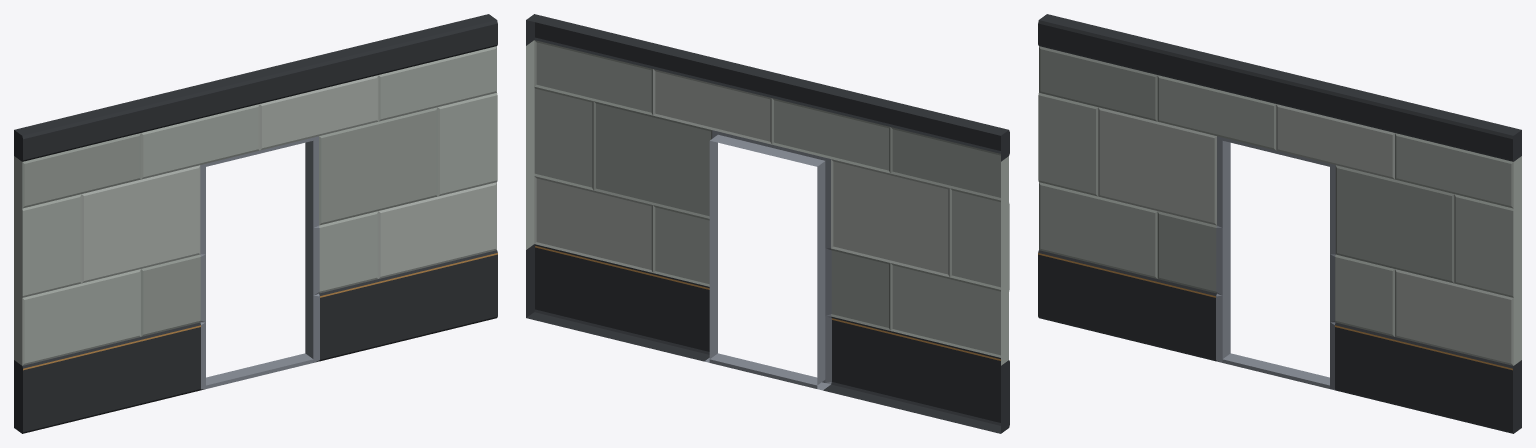
Rendered from Wall_Interior_Door_01.glb.
The picture shows the model from 3 angles, left to right: view 1: azimuth 30°, elevation 25°; view 2: azimuth 150°, elevation 25°; view 3: azimuth 330°, elevation 25°; orthographic projection.
Visible parts, largest first — view 1: SM_Env_Wall_Interior_Door_01; view 2: SM_Env_Wall_Interior_Door_01; view 3: SM_Env_Wall_Interior_Door_01.
Part boxes in pixels (x1=…): SM_Env_Wall_Interior_Door_01: x1=14, y1=14, x2=497, y2=433; SM_Env_Wall_Interior_Door_01: x1=526, y1=14, x2=1009, y2=433; SM_Env_Wall_Interior_Door_01: x1=1038, y1=14, x2=1521, y2=433.
Bounding box in the file's own units: 5 × 3 × 0.1636.
Materials: 1 (1 with a texture image).
